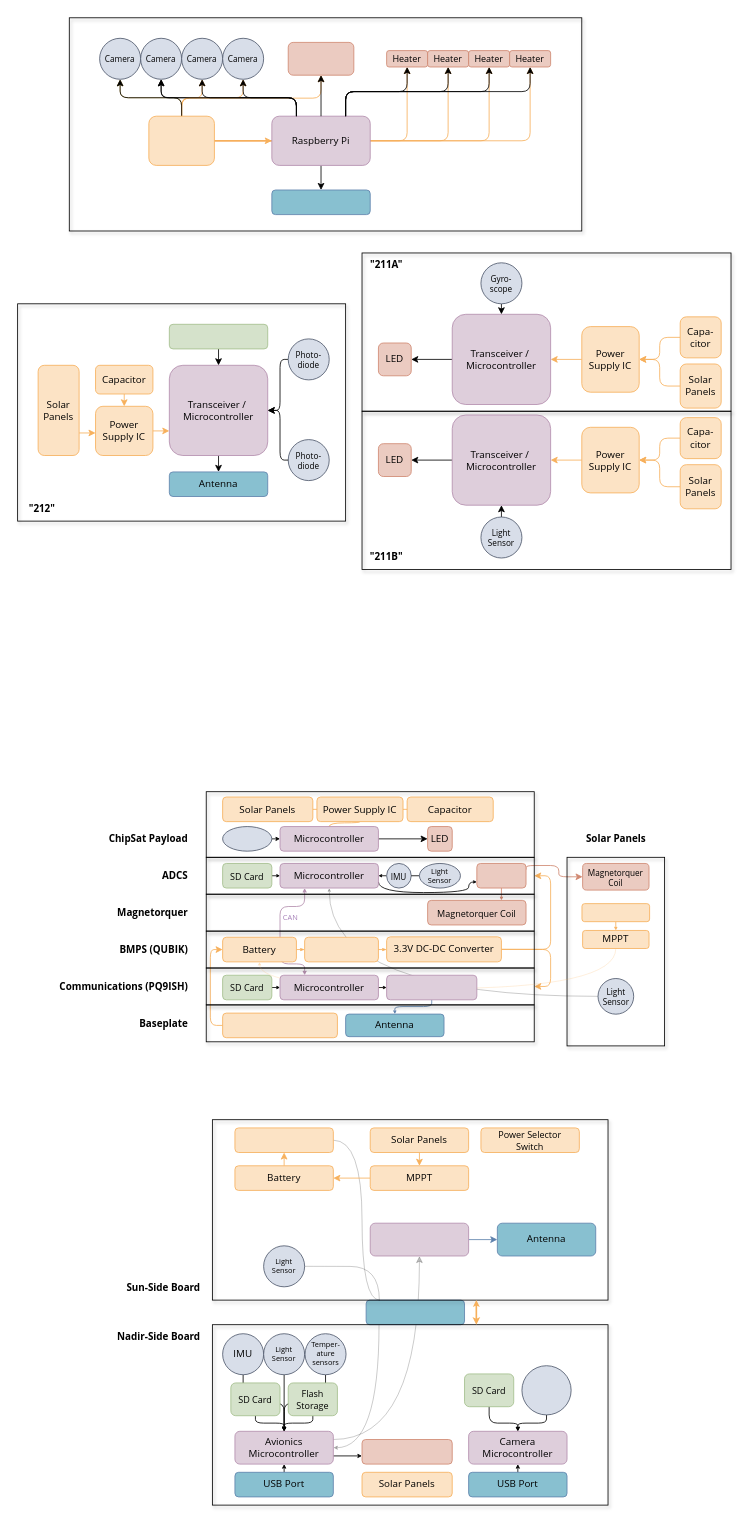
This 750x1525 diagram has some shape labels left out. Each missing label, with the centre of its shape:
3.3V DC-DC Converters: [181,140]
30-pin connector: [415,1312]
Arduino Processor: [320,58]
Battery Current Sensor: [283,1140]
Drivers: [501,875]
Electrical Kill Switches: [279,1025]
Gyroscope: [247,838]
Heater Drivers: [406,1451]
Level Gauge: [341,949]
Non-Volatile Memory: [218,336]
OpenMV Camera: [546,1390]
Serial Port: [320,202]
Solar Cells: [615,912]
Transceiver / PA: [431,987]
UHF Transceiver: [419,1239]
